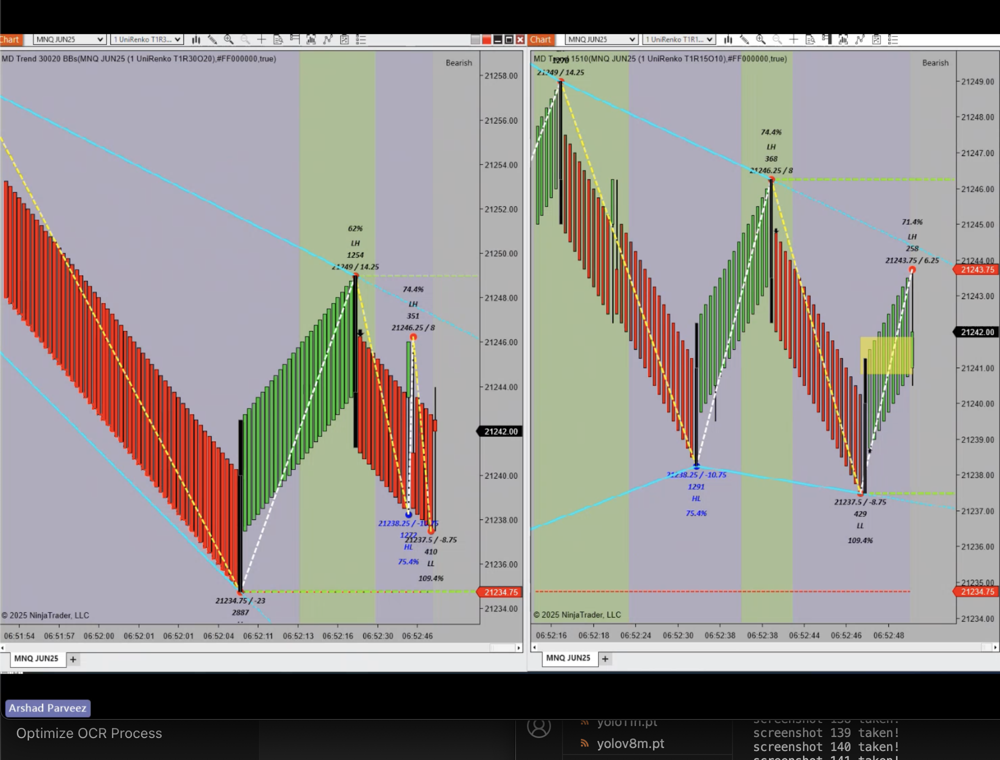HL: (686, 489, 710, 510), (399, 539, 417, 556)
LH: (403, 293, 428, 316), (344, 233, 368, 255), (902, 230, 928, 246), (762, 140, 784, 153)
LL: (853, 516, 869, 535), (423, 557, 441, 573)
